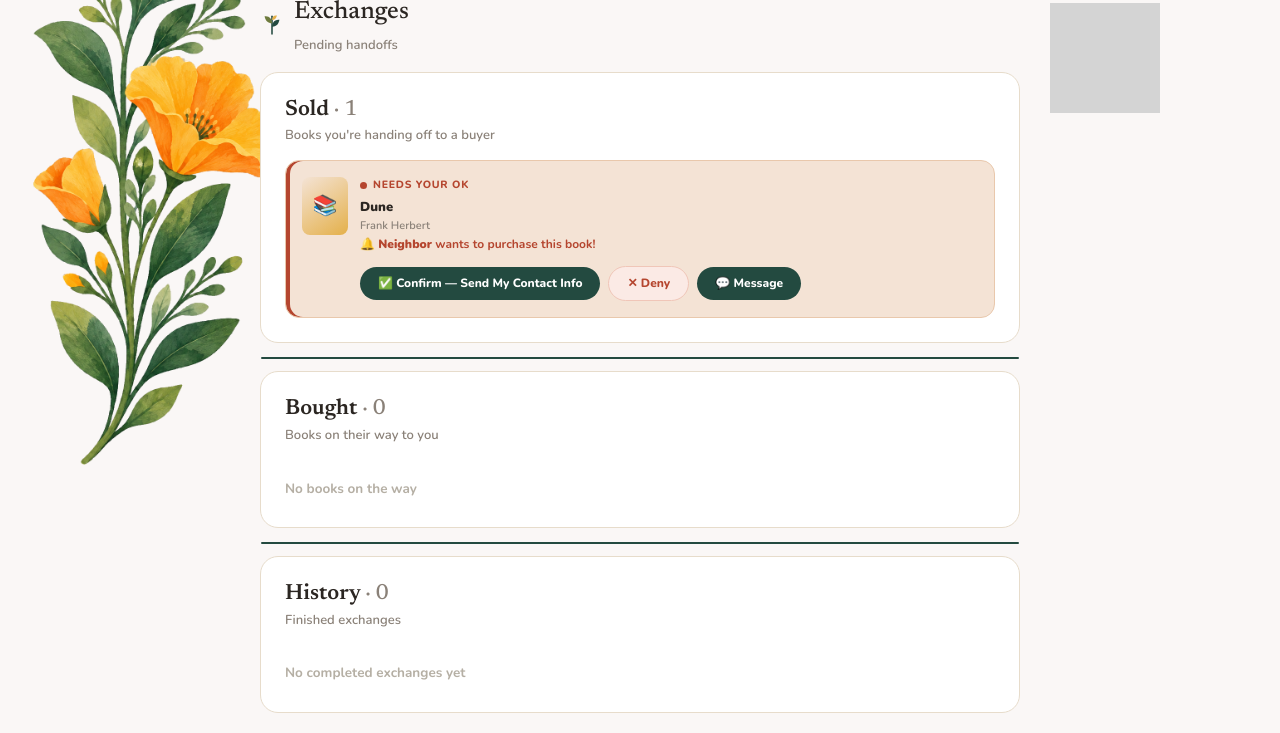
Test: DashboardClient — seller pickup availability › choosing a pickup time clears that message
The width and height of the screenshot is (1280, 733).
(page scrolled)
Click the button "✅ Confirm — Send My Contact Info" at x=480, y=284, box [360,267,600,300]
(page scrolled)
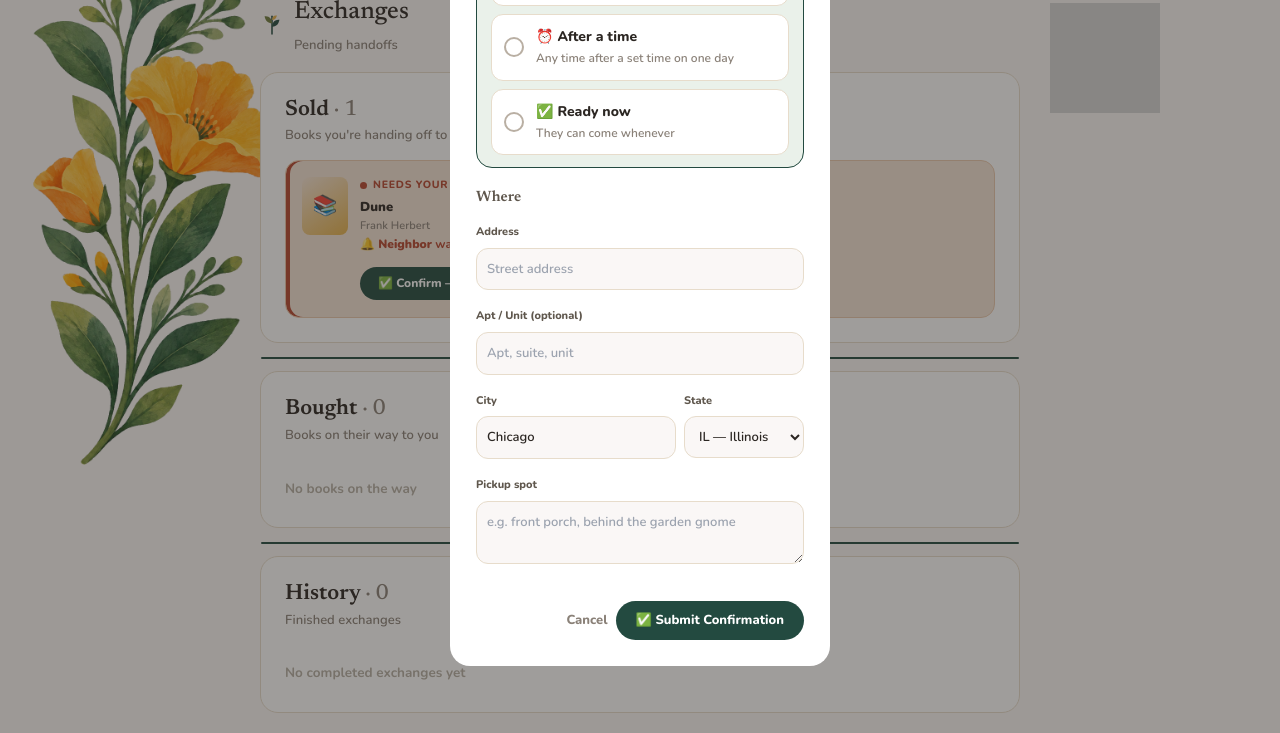
Click the button "✅ Submit Confirmation" at x=710, y=620, box [616,601,804,640]
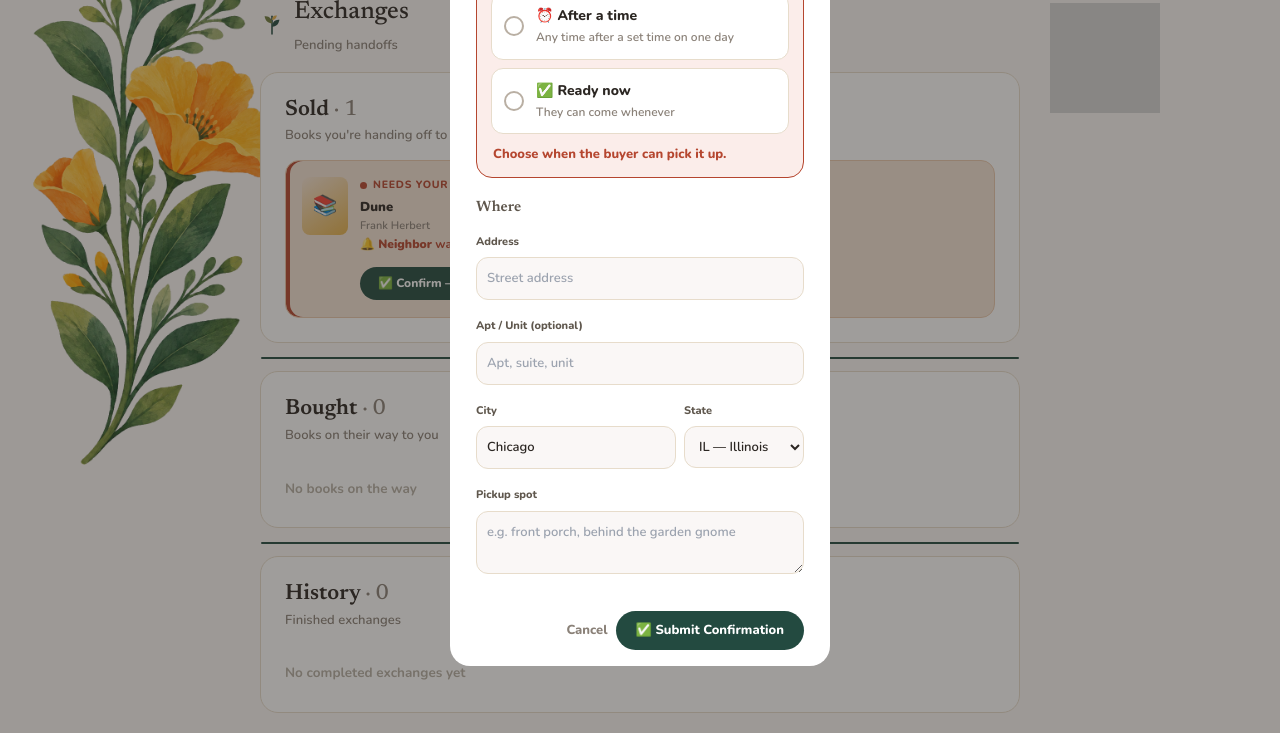
Click the radio button labelled "✅ Ready now They can come whenever" at x=514, y=101, box [504,91,524,111]
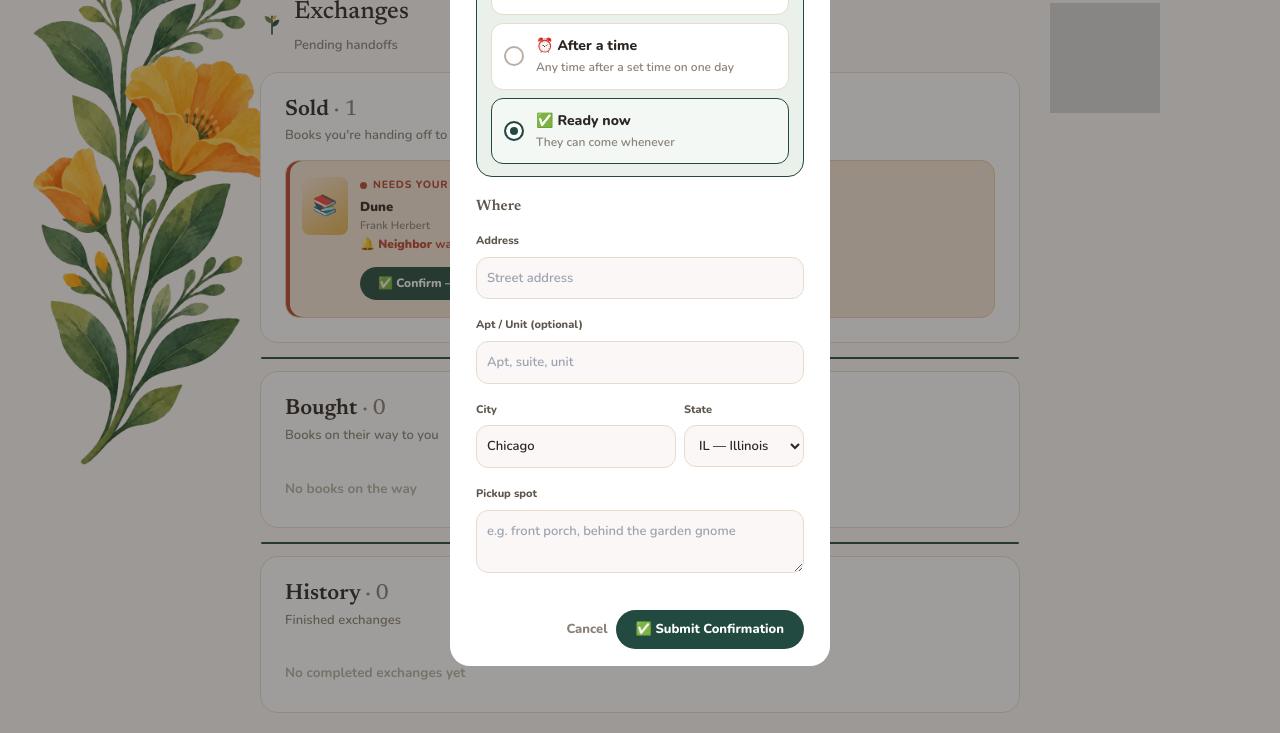
expect the message "Choose when the buyer can pick it up." is gone: met
